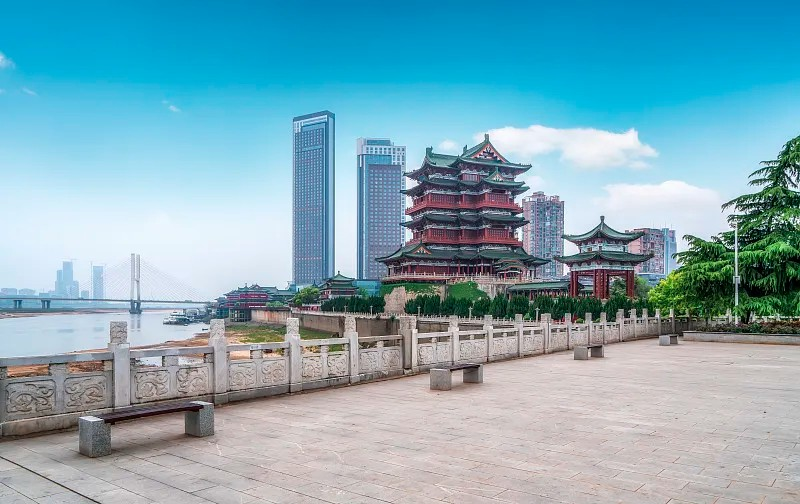Teng: (376, 134, 552, 278)
